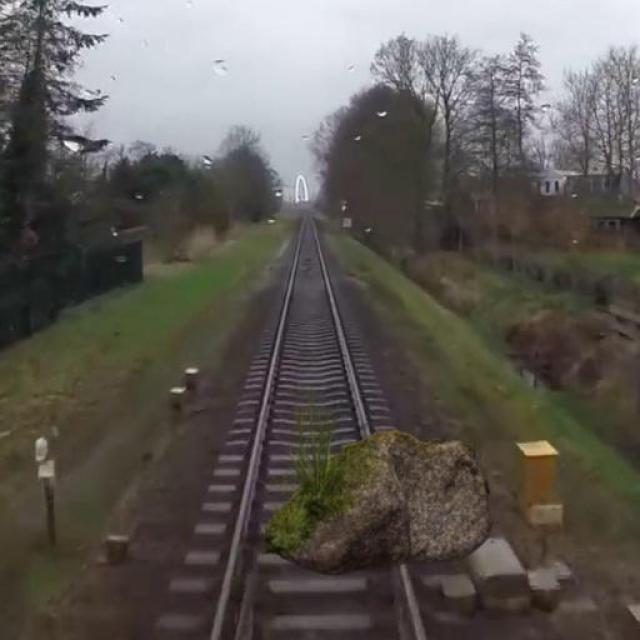Stone: (255, 420, 497, 568)
